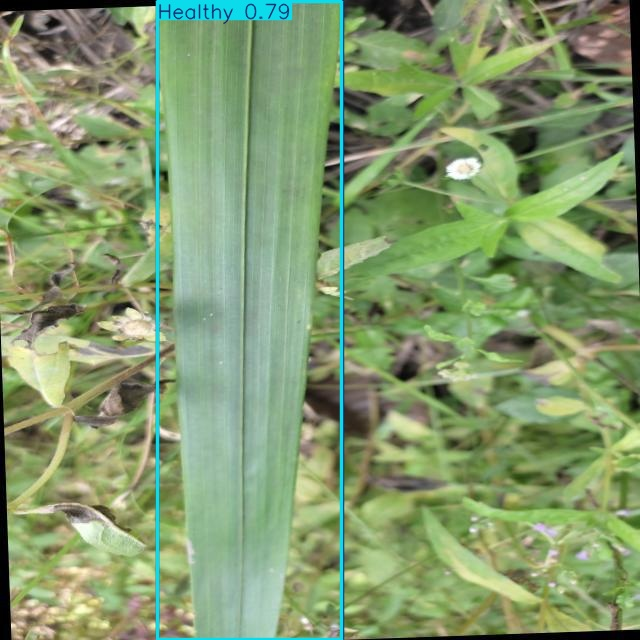Healthy: (158, 2, 342, 639)
nitrogen: (158, 1, 343, 640)
